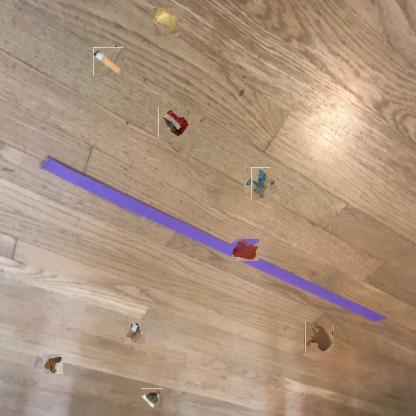dirty: (159, 106, 191, 139), (94, 47, 123, 76), (153, 9, 179, 36), (248, 170, 273, 197), (123, 321, 145, 344), (142, 388, 163, 410), (43, 354, 63, 374)
liquid: (305, 323, 333, 352), (231, 239, 259, 261)
